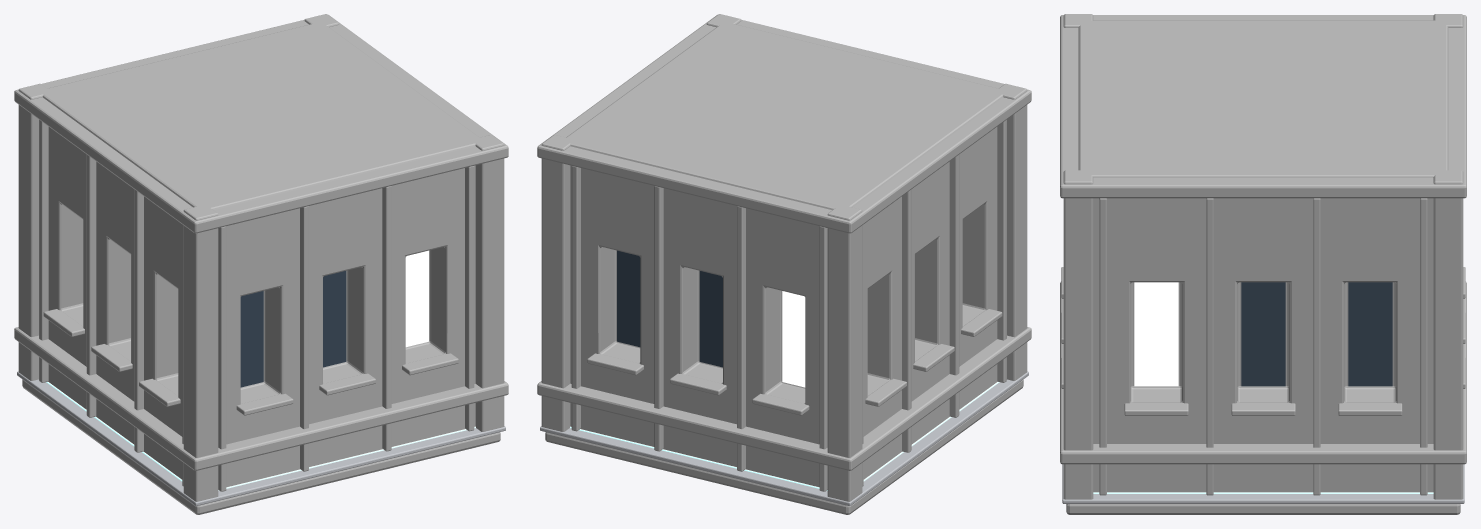
The model's file is concrete_3x3.glb.
The picture shows the model from 3 angles, left to right: view 1: azimuth 30°, elevation 25°; view 2: azimuth 150°, elevation 25°; view 3: azimuth 270°, elevation 25°; orthographic projection. The views are drawn at different scales.
Visible parts, largest first — view 1: ext_wall, int_ceiling, int_columns, ext_frames, ext_ledge_top, ext_ledge_mid, int_slab_edge, int_slab, ext_panes_dark, ext_panes_lit, int_grid; view 2: ext_wall, int_ceiling, int_columns, ext_frames, ext_ledge_top, ext_ledge_mid, int_slab_edge, int_slab, ext_panes_dark, ext_panes_lit, int_grid; view 3: ext_wall, int_ceiling, int_columns, ext_ledge_top, ext_frames, ext_panes_dark, ext_ledge_mid, ext_panes_lit, int_slab, int_slab_edge, int_grid.
Part boxes in pixels (bbox=[...]): ext_wall: bbox=[48, 127, 475, 487]; int_ceiling: bbox=[39, 22, 483, 209]; int_columns: bbox=[18, 14, 504, 501]; ext_frames: bbox=[39, 119, 474, 491]; ext_ledge_top: bbox=[14, 14, 508, 233]; ext_ledge_mid: bbox=[14, 327, 508, 470]; int_slab_edge: bbox=[17, 371, 505, 506]; int_slab: bbox=[22, 379, 500, 514]; ext_panes_dark: bbox=[240, 271, 346, 387]; ext_panes_lit: bbox=[405, 250, 428, 347]; int_grid: bbox=[46, 382, 475, 490]; ext_wall: bbox=[570, 127, 997, 487]; int_ceiling: bbox=[563, 22, 1006, 209]; int_columns: bbox=[541, 14, 1027, 501]; ext_frames: bbox=[571, 119, 1006, 491]; ext_ledge_top: bbox=[537, 14, 1031, 233]; ext_ledge_mid: bbox=[537, 327, 1031, 470]; int_slab_edge: bbox=[540, 371, 1028, 506]; int_slab: bbox=[545, 379, 1023, 514]; ext_panes_dark: bbox=[617, 250, 722, 367]; ext_panes_lit: bbox=[782, 291, 805, 387]; int_grid: bbox=[570, 382, 999, 490]; ext_wall: bbox=[1093, 198, 1433, 492]; int_ceiling: bbox=[1078, 20, 1448, 177]; int_columns: bbox=[1063, 14, 1463, 499]; ext_ledge_top: bbox=[1060, 15, 1466, 198]; ext_frames: bbox=[1061, 198, 1465, 495]; ext_panes_dark: bbox=[1241, 282, 1392, 386]; ext_ledge_mid: bbox=[1060, 281, 1466, 464]; ext_panes_lit: bbox=[1134, 282, 1178, 386]; int_slab: bbox=[1066, 504, 1460, 514]; int_slab_edge: bbox=[1062, 464, 1464, 503]; int_grid: bbox=[1093, 492, 1433, 493].
Size of the model in its own units: 3.3 by 3 by 3.3.
